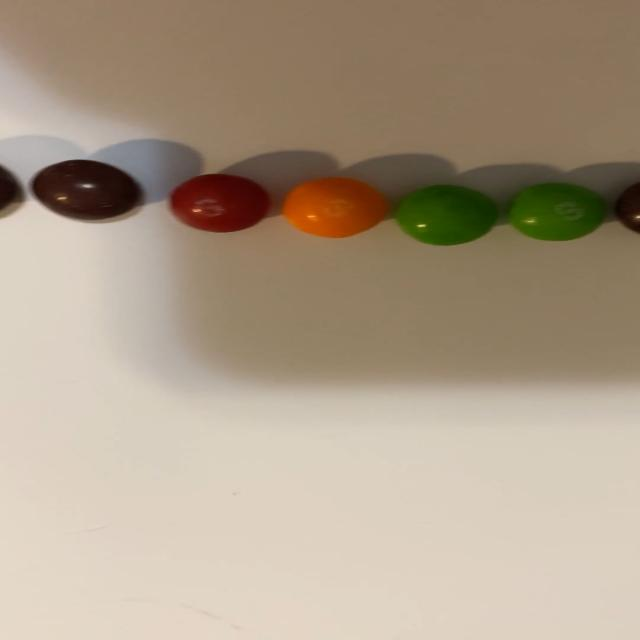smartie: (31, 159, 139, 220), (282, 177, 387, 238), (395, 184, 498, 245), (169, 174, 268, 232), (510, 183, 606, 240)
